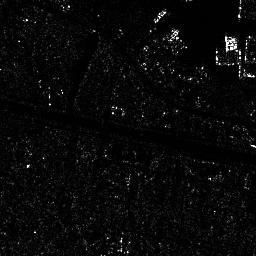ship: (146, 7, 166, 34)
